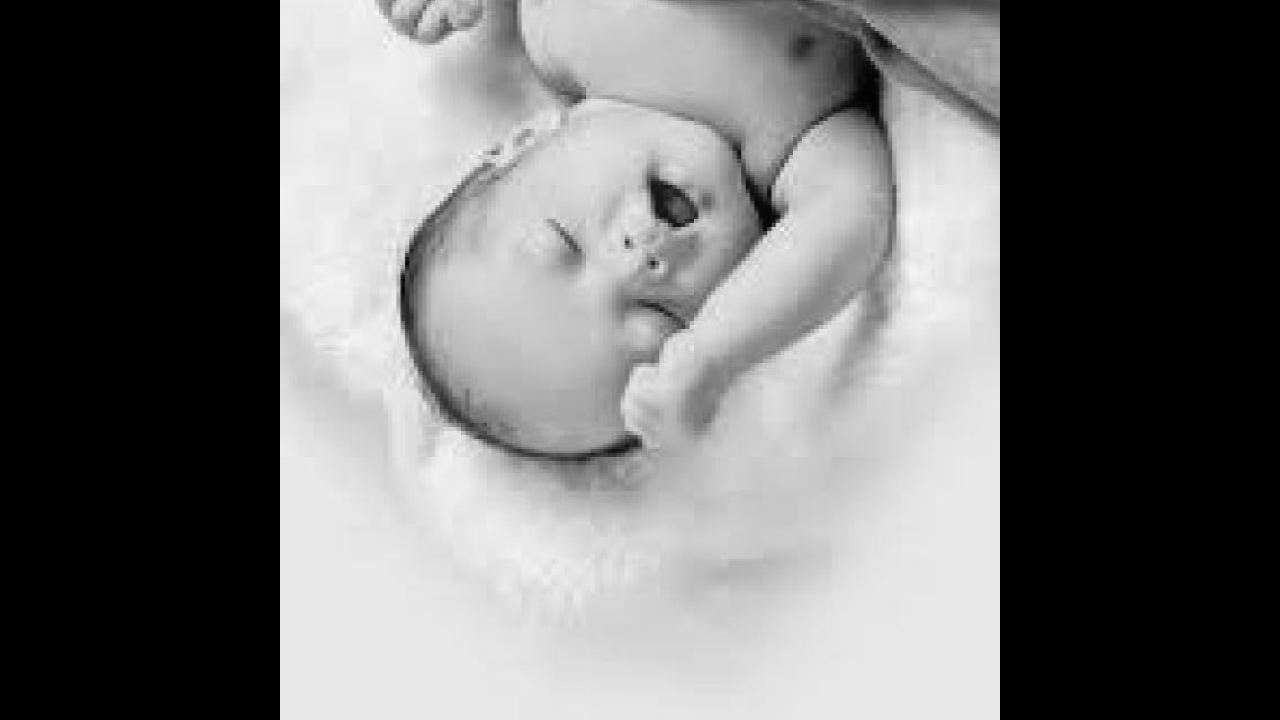hand: (618, 323, 718, 437), (360, 0, 482, 48)
